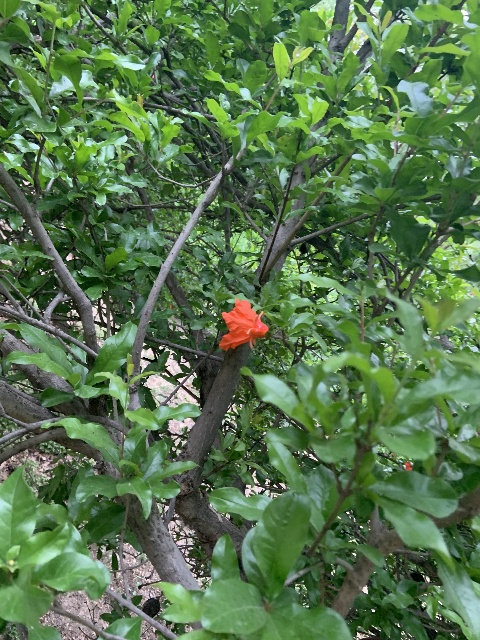flower: (219, 298, 269, 350), (404, 461, 412, 470)
